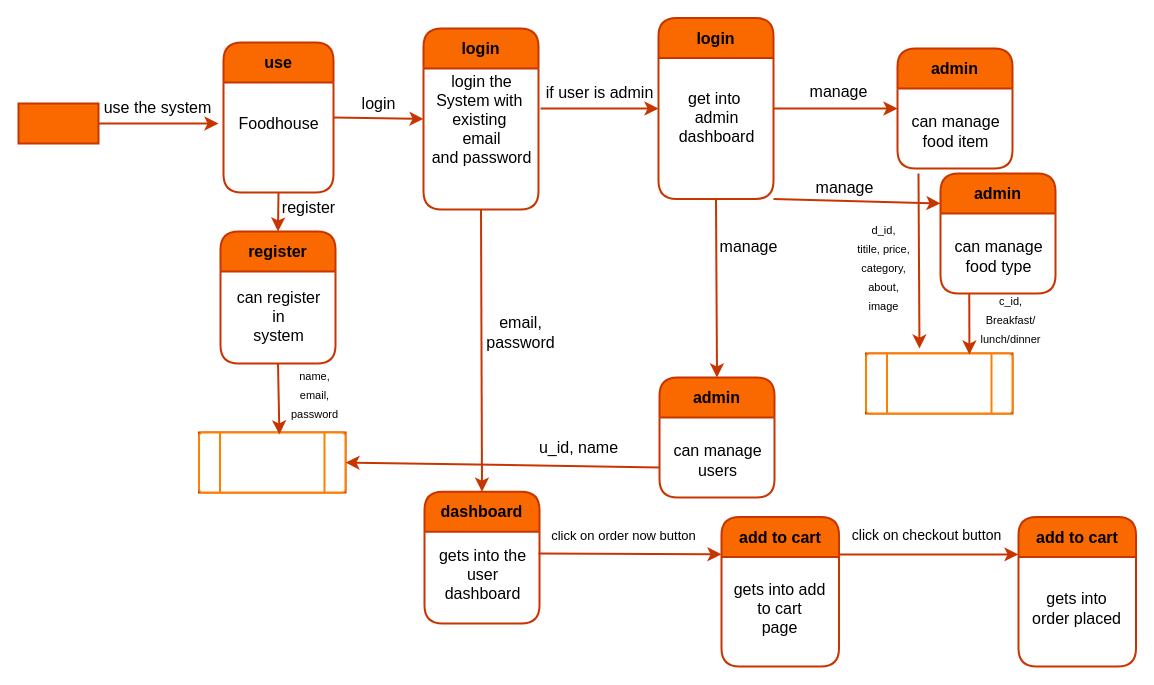
Image size: 1154x685. Some labels were removed from this diagram. Each missing label, with the centre of its shape:
"dishes database" belongs at (938,383).
"user" belongs at (58,123).
"users database" belongs at (272,462).
